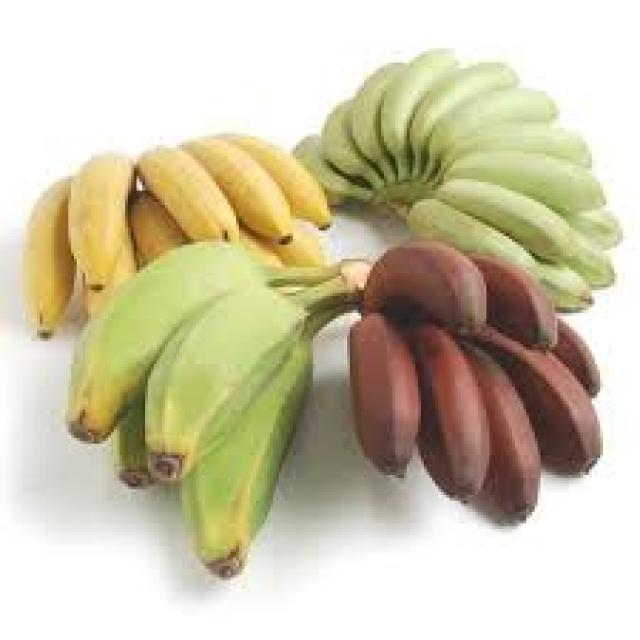banana: (70, 250, 358, 555), (282, 49, 607, 279), (345, 247, 610, 500), (20, 131, 333, 338)
